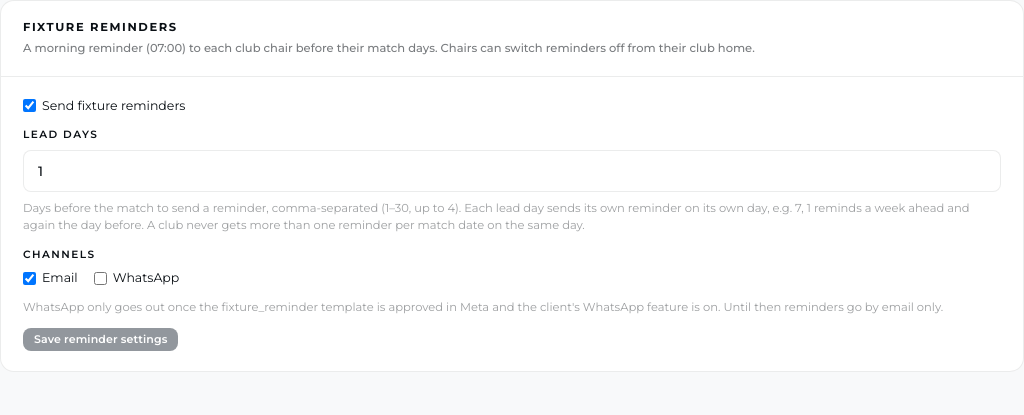
Test: FixtureRemindersCard › refuses enabling with no channel
The image size is (1024, 415).
Click the checkbox labelled "Email" at [30, 279], box [23, 272, 36, 285]
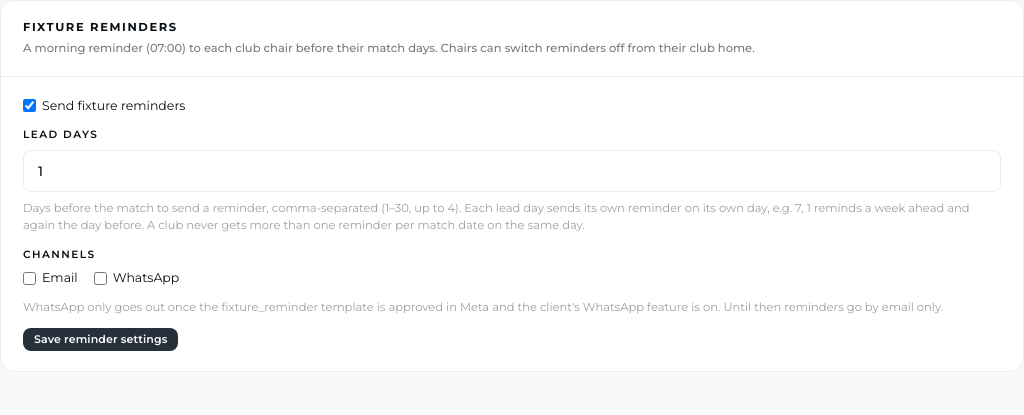
Click the button "Save reminder settings" at [101, 340], box [23, 328, 178, 351]
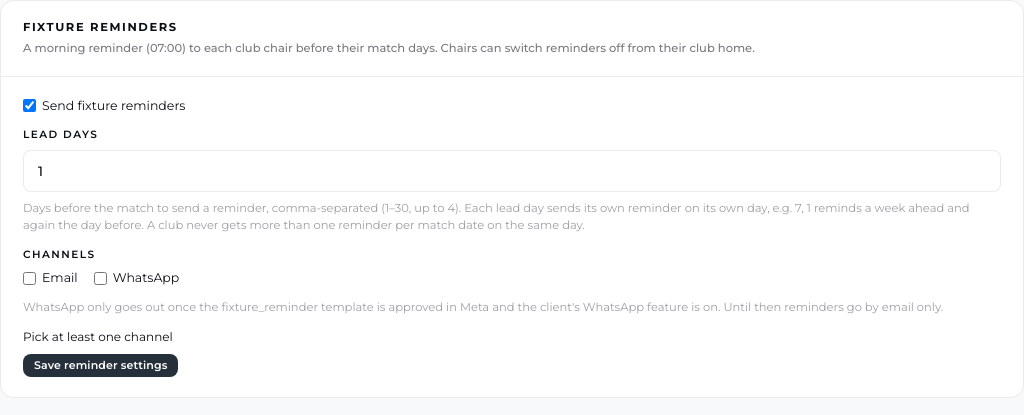
Check: the text "Pick at least one channel" is shown, box [23, 329, 173, 344]
